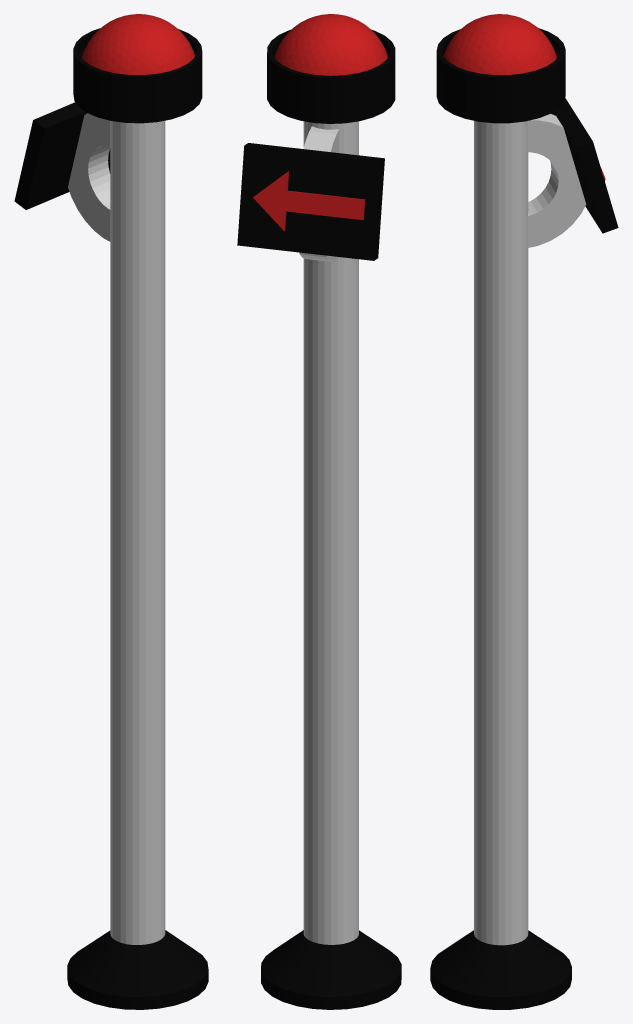
File: LeftSupport.obj
The picture shows the model from 3 angles, left to right: view 1: azimuth 30°, elevation 25°; view 2: azimuth 150°, elevation 25°; view 3: azimuth 270°, elevation 25°; orthographic projection.
Parts seen in each view (by area): view 1: Support, Button, RightArrow, Arch; view 2: Support, RightArrow, Button, Arch; view 3: Support, Button, Arch, RightArrow.
Part boxes in pixels (x1,y1,x2,y2): Support: (67,28,208,1009); Button: (82,14,194,75); RightArrow: (14,102,110,209); Arch: (68,113,110,241); Support: (261,29,401,1009); RightArrow: (237,143,384,260); Button: (274,14,387,75); Arch: (299,126,339,261); Support: (430,28,571,1009); Button: (443,14,556,74); Arch: (527,113,586,247); RightArrow: (551,98,618,233).
Bounding box in the file's own units: 0.2538 × 1.62 × 0.2871.
